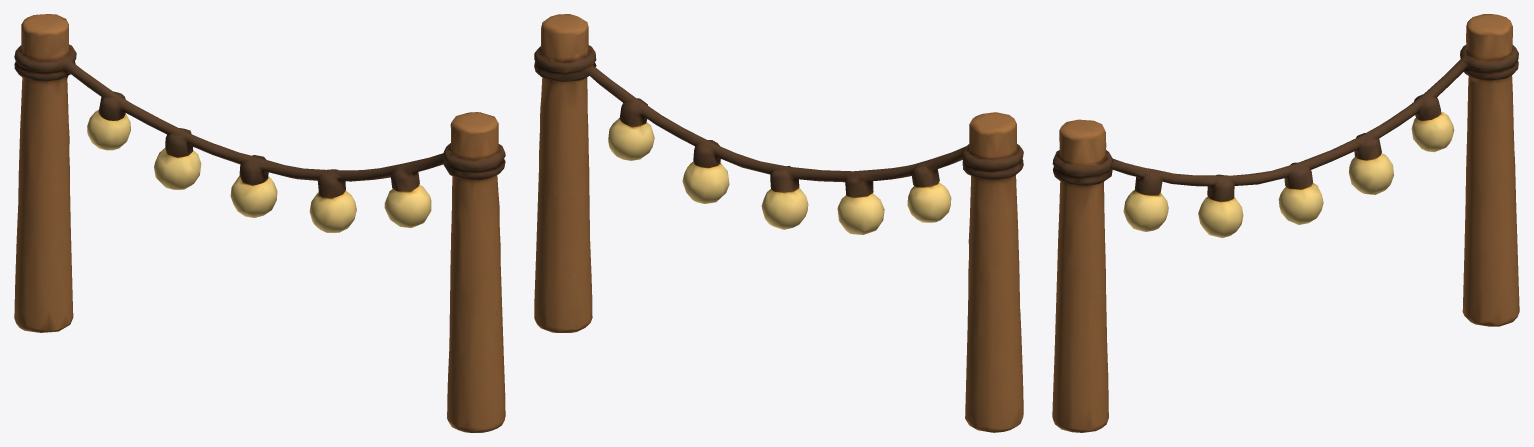
File: f-lights.glb
3 views of the same model, side by side, from view 1: azimuth 30°, elevation 25°; view 2: azimuth 210°, elevation 25°; view 3: azimuth 270°, elevation 25° (orthographic). The views are drawn at different scales.
Parts seen in each view (by area): view 1: tripo_node_b7fed9fd-5d3f-4a95-bf50-2d89258e7336; view 2: tripo_node_b7fed9fd-5d3f-4a95-bf50-2d89258e7336; view 3: tripo_node_b7fed9fd-5d3f-4a95-bf50-2d89258e7336.
Part boxes in pixels (box(x1,y1,x2,y2)): tripo_node_b7fed9fd-5d3f-4a95-bf50-2d89258e7336: box(14, 14, 505, 432); tripo_node_b7fed9fd-5d3f-4a95-bf50-2d89258e7336: box(534, 14, 1023, 432); tripo_node_b7fed9fd-5d3f-4a95-bf50-2d89258e7336: box(1052, 14, 1519, 432).
Bounding box in the file's own units: 0.6659 × 0.7017 × 1.
Materials: 1 (1 with a texture image).
